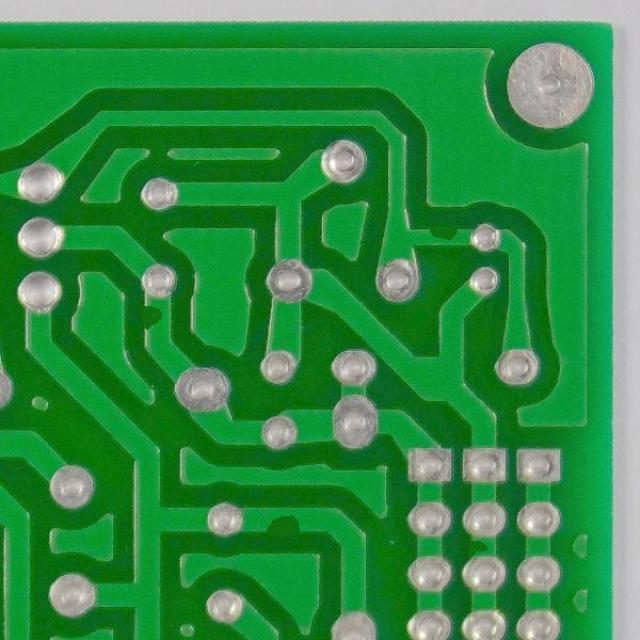MouseBite: (256, 506, 309, 543), (138, 299, 175, 337), (421, 221, 464, 245), (464, 534, 498, 556)
